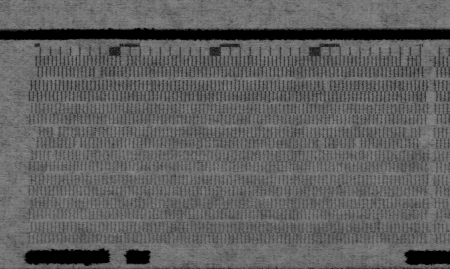Broken hole: (26, 125, 42, 152), (28, 55, 41, 80), (417, 126, 430, 148), (92, 64, 105, 78), (50, 126, 63, 139), (117, 55, 130, 68), (315, 137, 329, 149), (72, 138, 84, 151), (321, 79, 333, 92), (352, 138, 364, 151), (402, 126, 414, 139), (419, 54, 429, 69), (399, 55, 410, 68)
